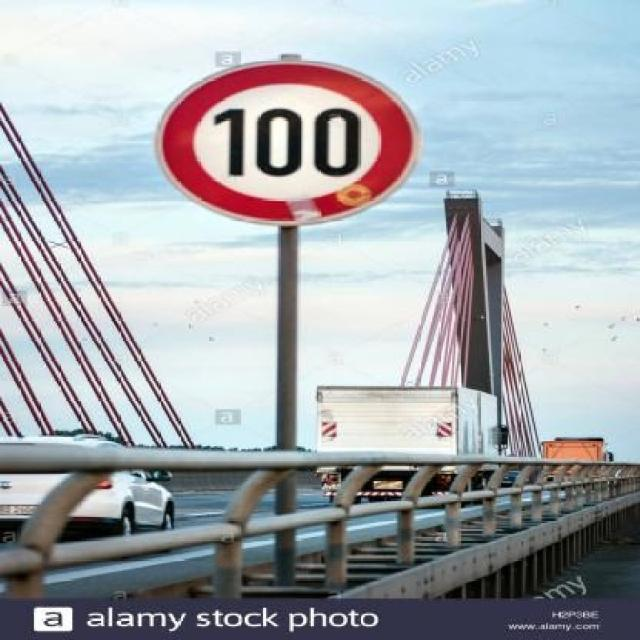forb_speed_over_100: (160, 63, 415, 223)
